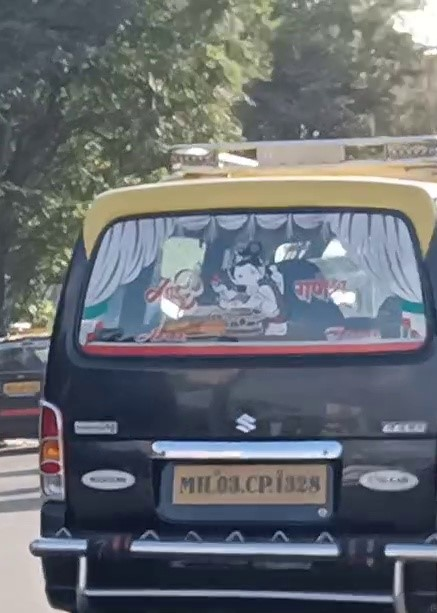MH03CP1328: (172, 464, 327, 504)
